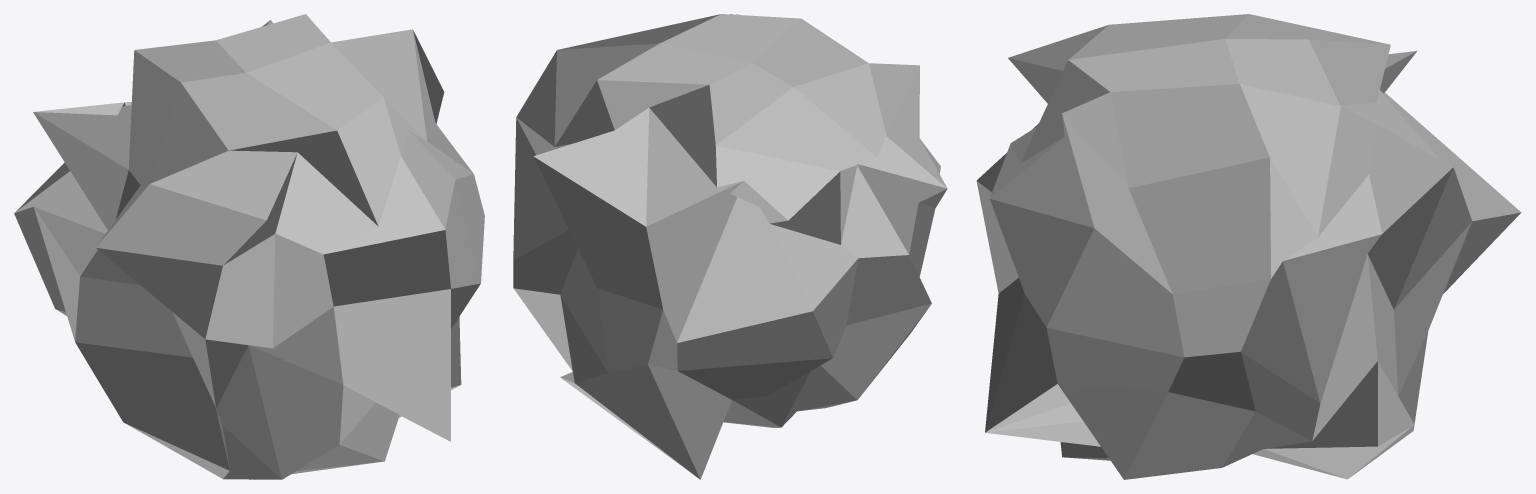
File: Paper ball.fbx
3 views of the same model, side by side, from view 1: azimuth 30°, elevation 25°; view 2: azimuth 150°, elevation 25°; view 3: azimuth 270°, elevation 25° (orthographic). The views are drawn at different scales.
Visible parts, largest first — view 1: Paper ball; view 2: Paper ball; view 3: Paper ball.
Boxes of the visible parts, left/top/right/bottom form: Paper ball: left=14, top=14, right=484, bottom=479; Paper ball: left=513, top=14, right=947, bottom=479; Paper ball: left=976, top=14, right=1521, bottom=479.
Size of the model in its own units: 10.44 by 9.8 by 11.08.
